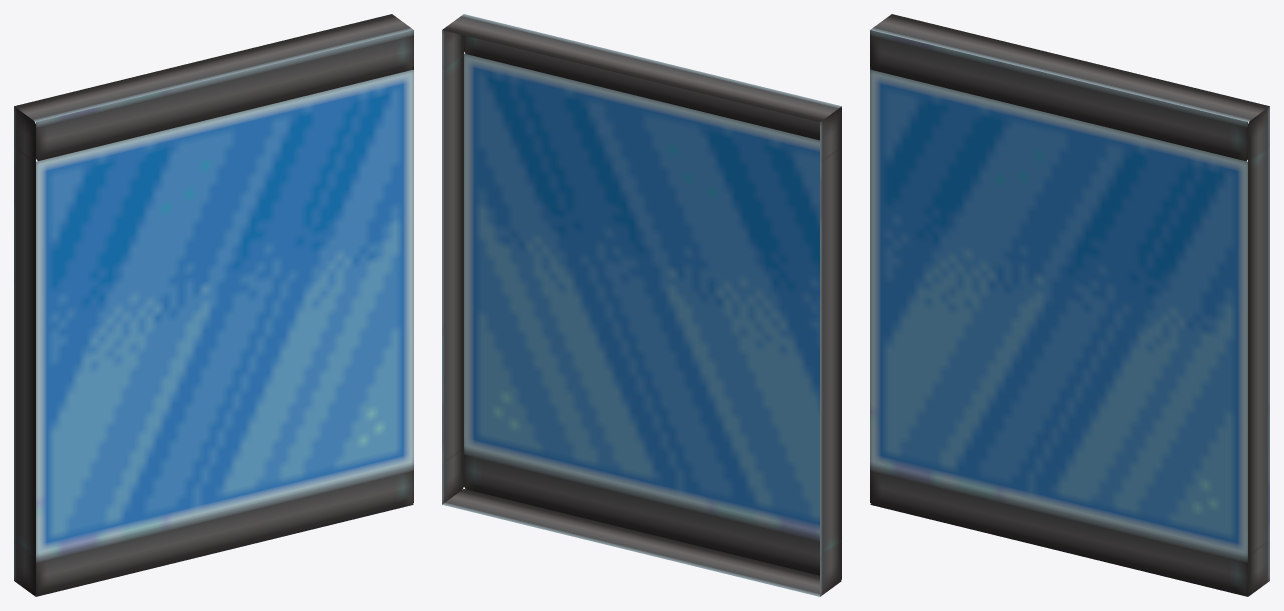
Rendered from Poly_SF_Outside_B_Window_12.obj.
The picture shows the model from 3 angles, left to right: view 1: azimuth 30°, elevation 25°; view 2: azimuth 150°, elevation 25°; view 3: azimuth 330°, elevation 25°; orthographic projection.
Parts seen in each view (by area): view 1: Cube.001; view 2: Cube.001; view 3: Cube.001.
Boxes of the visible parts, left/top/right/bottom form: Cube.001: left=14, top=14, right=413, bottom=596; Cube.001: left=442, top=14, right=841, bottom=596; Cube.001: left=870, top=14, right=1269, bottom=596.
Size of the model in its own units: 1 by 1.2 by 0.1.
1 material, 1 textured.
